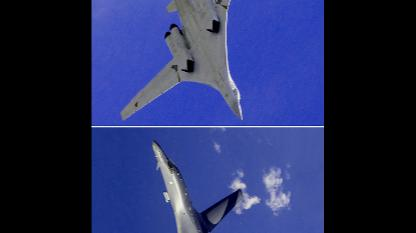AV8B: (152, 137, 254, 231)
Su34: (119, 0, 260, 120)
